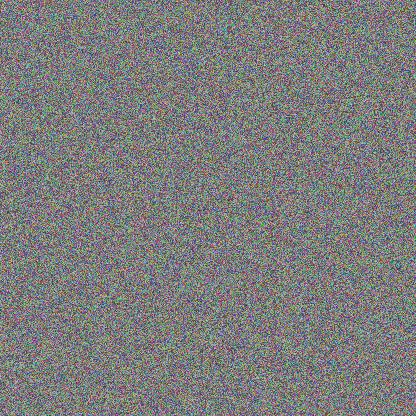empty: (58, 184, 147, 242)
